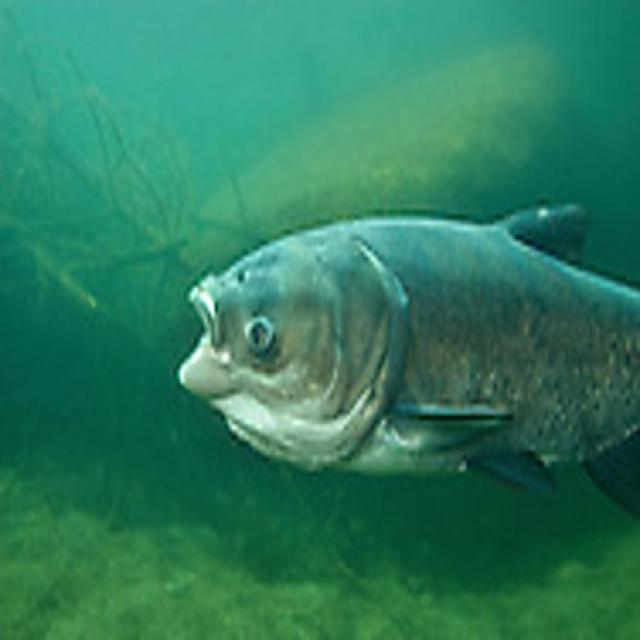Big-Head-Carp: (174, 160, 640, 585)
